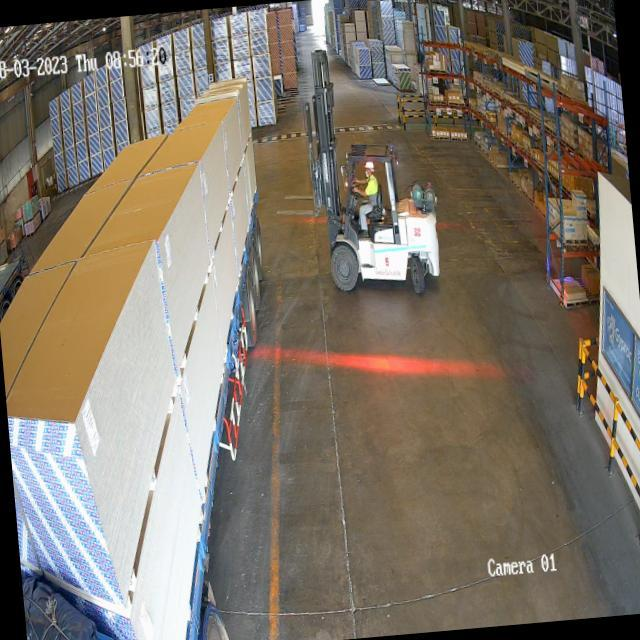driver: (348, 158, 386, 238)
forklift: (307, 128, 451, 310)
